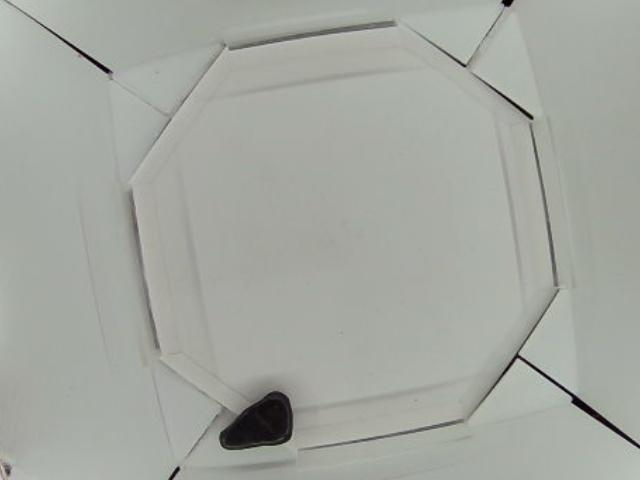Pebble: (220, 390, 295, 451)
